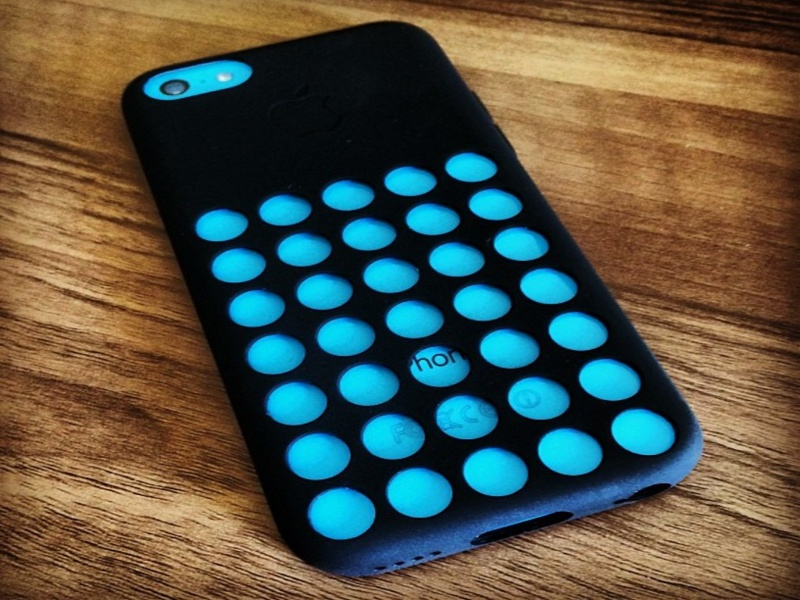cellphone: (105, 16, 706, 573)
